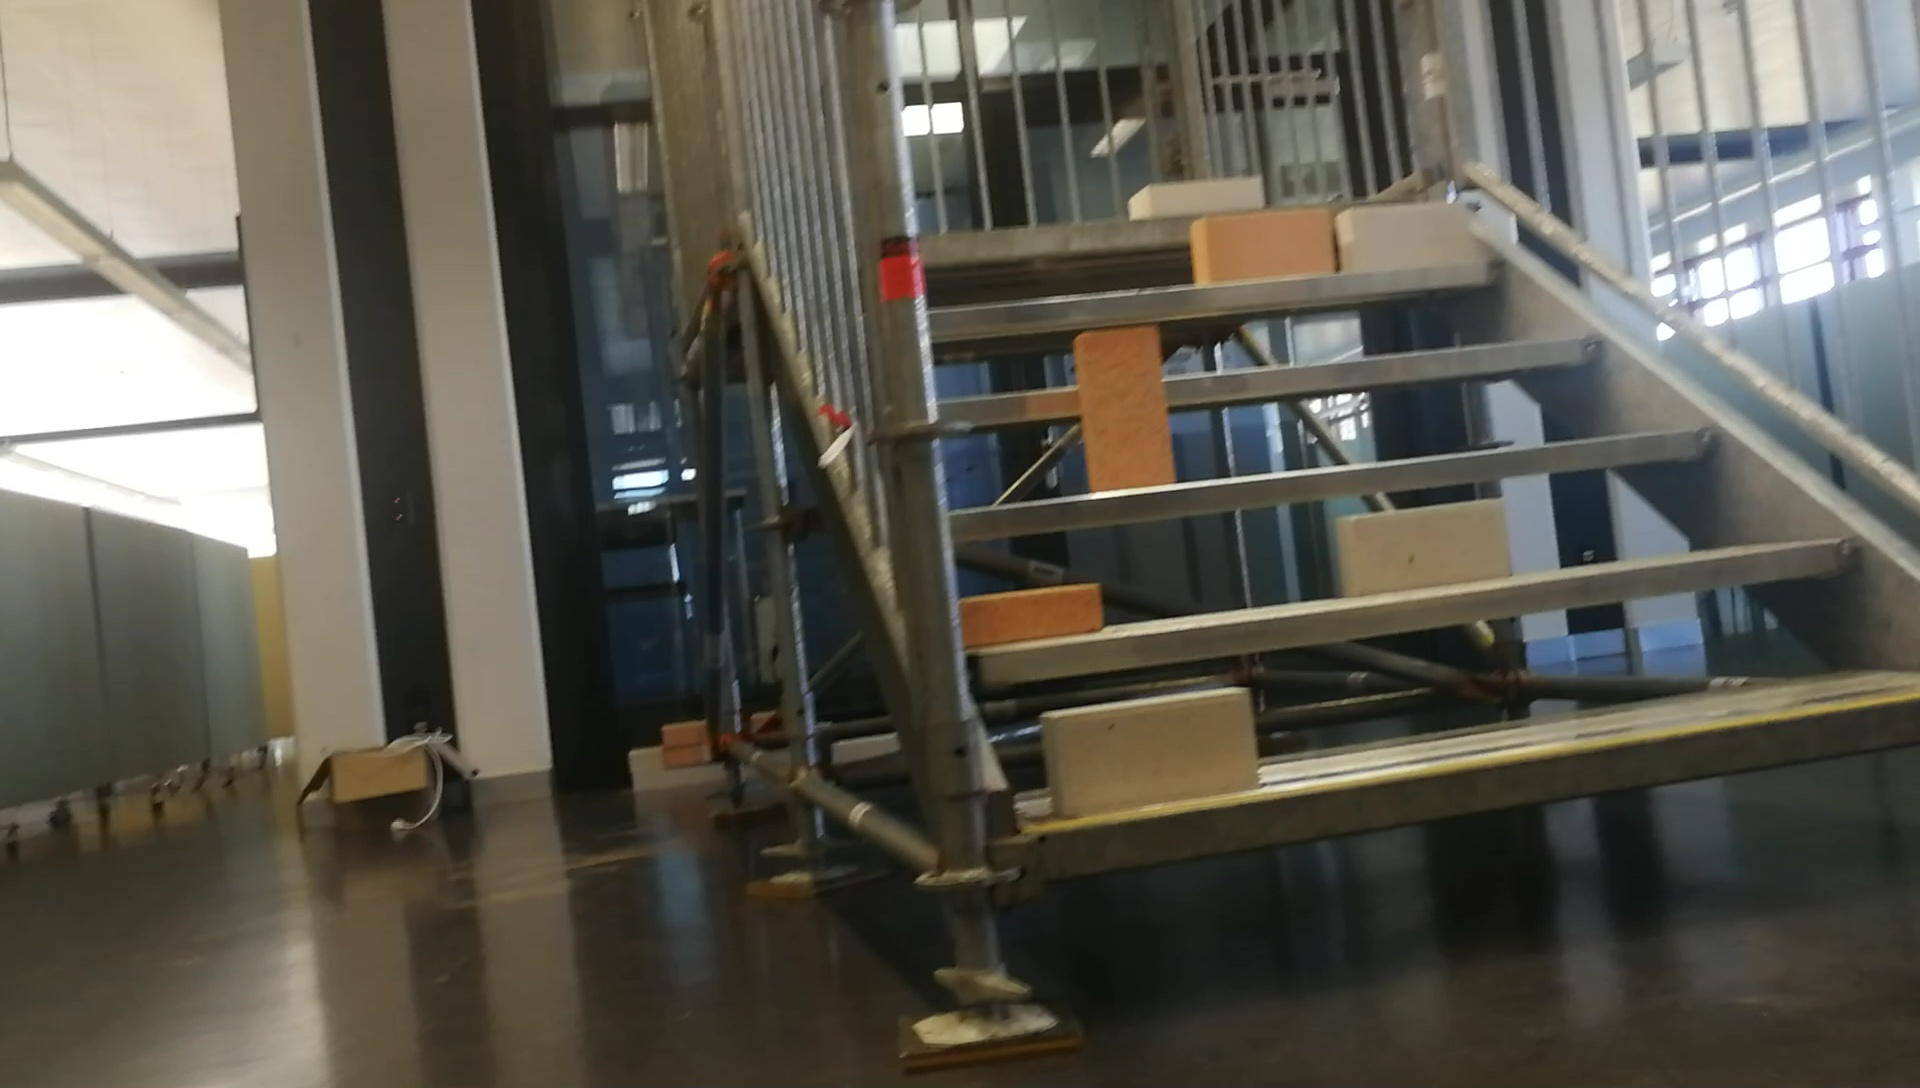brick: (1043, 687, 1251, 812), (1340, 499, 1513, 593), (1077, 328, 1174, 495), (1192, 210, 1329, 285), (957, 580, 1098, 650), (1338, 206, 1466, 268), (1127, 178, 1262, 214)
edge: (1035, 690, 1917, 876), (968, 535, 1850, 684), (952, 429, 1720, 538)
stairs: (890, 3, 1917, 1055)
